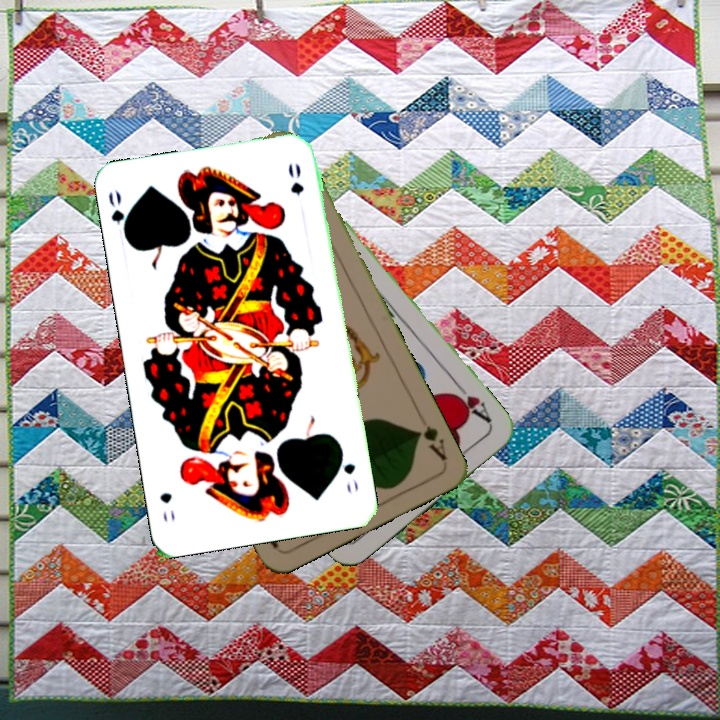GA: (411, 421, 450, 464)
GO: (104, 186, 133, 244), (335, 444, 361, 496)
HA: (446, 378, 494, 426)
